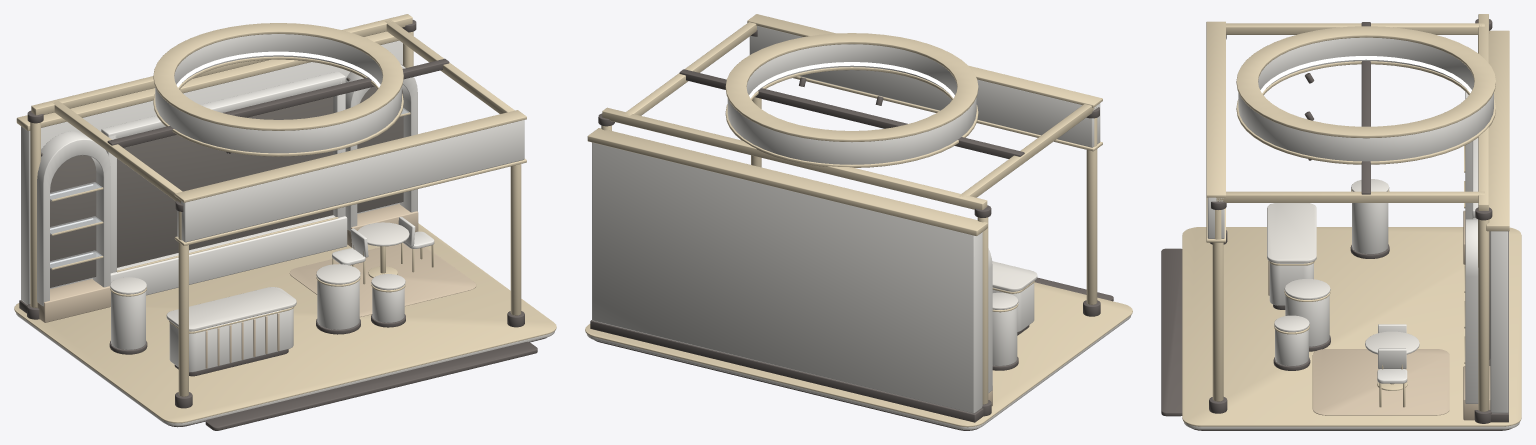
File: booth_01_signature_ring_v27_3.glb
3 views of the same model, side by side, from view 1: azimuth 30°, elevation 25°; view 2: azimuth 150°, elevation 25°; view 3: azimuth 270°, elevation 25° (orthographic). The views are drawn at different scales.
Parts seen in each view (by area): view 1: V273_Booth01_SignatureRing_Champagne_Gold_Metal, V273_Booth01_SignatureRing_Cream_Matte_Panel, V273_Booth01_SignatureRing_Warm_Taupe_Recess, V273_Booth01_SignatureRing_Dark_Bronze_Plinth, V273_Booth01_SignatureRing_Light_Luxury_Oak, V273_Booth01_SignatureRing_Warm_Ivory_Stone, V273_Booth01_SignatureRing_Warm_White_LED, V273_Booth01_SignatureRing_Clear_Tempered_Glass; view 2: V273_Booth01_SignatureRing_Cream_Matte_Panel, V273_Booth01_SignatureRing_Champagne_Gold_Metal, V273_Booth01_SignatureRing_Dark_Bronze_Plinth, V273_Booth01_SignatureRing_Warm_Ivory_Stone, V273_Booth01_SignatureRing_Warm_White_LED; view 3: V273_Booth01_SignatureRing_Champagne_Gold_Metal, V273_Booth01_SignatureRing_Cream_Matte_Panel, V273_Booth01_SignatureRing_Light_Luxury_Oak, V273_Booth01_SignatureRing_Dark_Bronze_Plinth, V273_Booth01_SignatureRing_Warm_Ivory_Stone, V273_Booth01_SignatureRing_Warm_White_LED.
Part boxes in pixels (x1=…): V273_Booth01_SignatureRing_Champagne_Gold_Metal: x1=14, y1=14, x2=556, y2=423; V273_Booth01_SignatureRing_Cream_Matte_Panel: x1=21, y1=34, x2=524, y2=372; V273_Booth01_SignatureRing_Warm_Taupe_Recess: x1=41, y1=64, x2=404, y2=287; V273_Booth01_SignatureRing_Dark_Bronze_Plinth: x1=19, y1=20, x2=546, y2=430; V273_Booth01_SignatureRing_Light_Luxury_Oak: x1=37, y1=204, x2=476, y2=368; V273_Booth01_SignatureRing_Warm_Ivory_Stone: x1=16, y1=222, x2=554, y2=426; V273_Booth01_SignatureRing_Warm_White_LED: x1=50, y1=51, x2=530, y2=423; V273_Booth01_SignatureRing_Clear_Tempered_Glass: x1=50, y1=108, x2=409, y2=269; V273_Booth01_SignatureRing_Cream_Matte_Panel: x1=592, y1=26, x2=1100, y2=413; V273_Booth01_SignatureRing_Champagne_Gold_Metal: x1=585, y1=14, x2=1132, y2=427; V273_Booth01_SignatureRing_Dark_Bronze_Plinth: x1=590, y1=30, x2=1113, y2=430; V273_Booth01_SignatureRing_Warm_Ivory_Stone: x1=587, y1=261, x2=1131, y2=429; V273_Booth01_SignatureRing_Warm_White_LED: x1=749, y1=62, x2=954, y2=106; V273_Booth01_SignatureRing_Champagne_Gold_Metal: x1=1182, y1=14, x2=1521, y2=426; V273_Booth01_SignatureRing_Cream_Matte_Panel: x1=1207, y1=37, x2=1508, y2=413; V273_Booth01_SignatureRing_Light_Luxury_Oak: x1=1268, y1=210, x2=1490, y2=420; V273_Booth01_SignatureRing_Dark_Bronze_Plinth: x1=1161, y1=19, x2=1511, y2=430; V273_Booth01_SignatureRing_Warm_Ivory_Stone: x1=1184, y1=179, x2=1519, y2=429; V273_Booth01_SignatureRing_Warm_White_LED: x1=1260, y1=56, x2=1471, y2=160.
Size of the model in its own units: 7.2 by 4.29 by 5.52.
